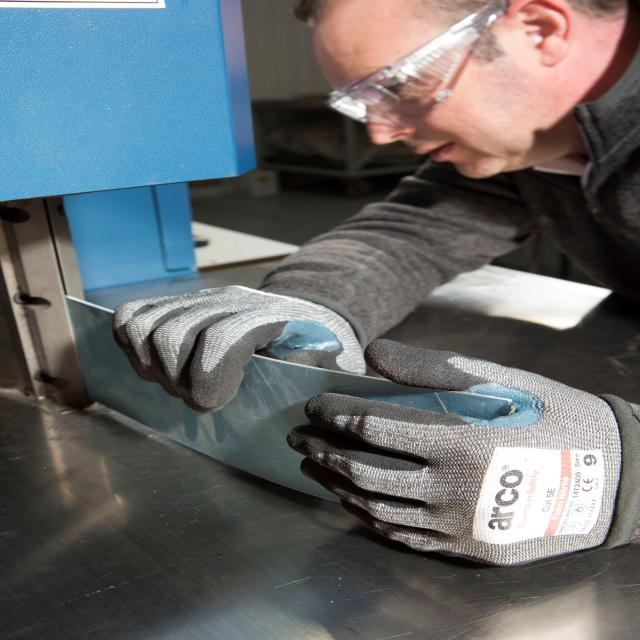gloves: (282, 334, 640, 568), (110, 283, 374, 410)
